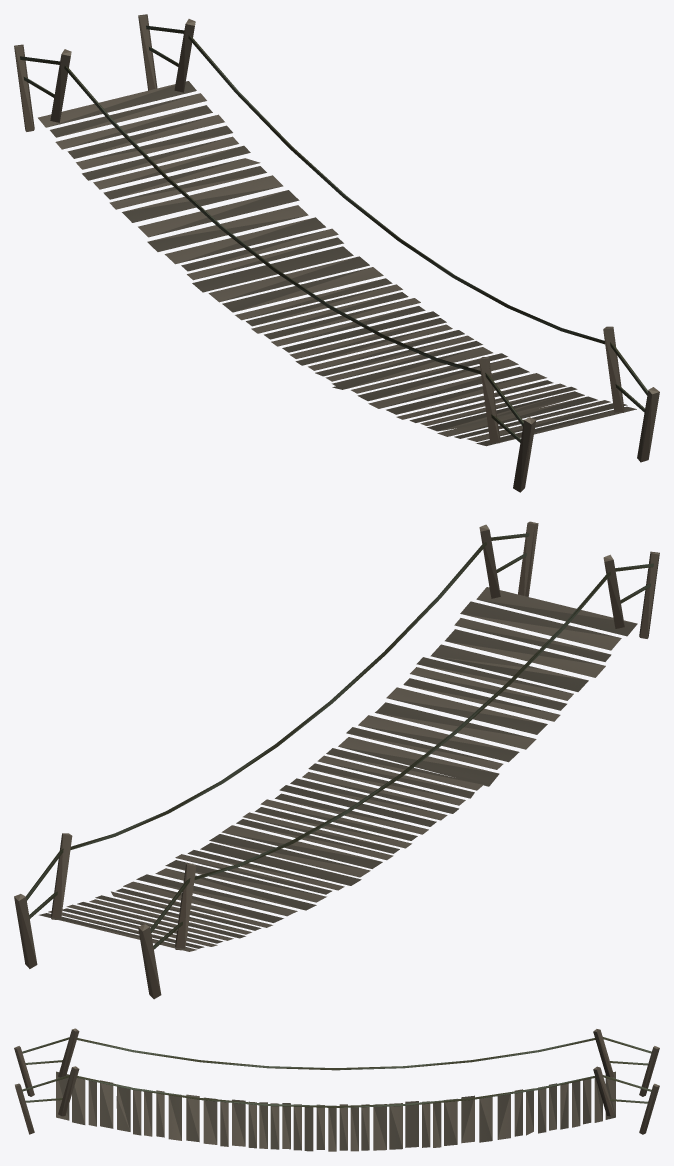
The model's file is Cave_8_Bridge_LOD_1.fbx.
The picture shows the model from 3 angles, top to bottom: view 1: azimuth 30°, elevation 25°; view 2: azimuth 150°, elevation 25°; view 3: azimuth 270°, elevation 25°; orthographic projection. The views are drawn at different scales.
Parts seen in each view (by area): view 1: polySurface558; view 2: polySurface558; view 3: polySurface558.
Boxes of the visible parts, x1,y1,x2,y2 form: polySurface558: (14, 14, 659, 492); polySurface558: (14, 521, 659, 999); polySurface558: (14, 1028, 659, 1151).
Bounding box in the file's own units: 4.19 × 3.24 × 23.71.
